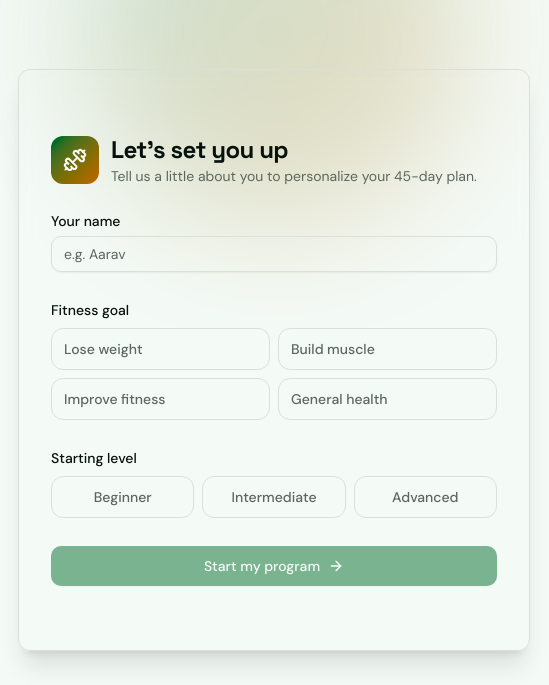
Test: OnboardingPage › disables submit until name, goal, and level are all chosen
The width and height of the screenshot is (549, 685).
Expected: the button "Start my program" is disabled, [51, 546, 497, 586]
Type "Aarav" into the field labelled "Your name" at [274, 254], box [51, 236, 497, 272]
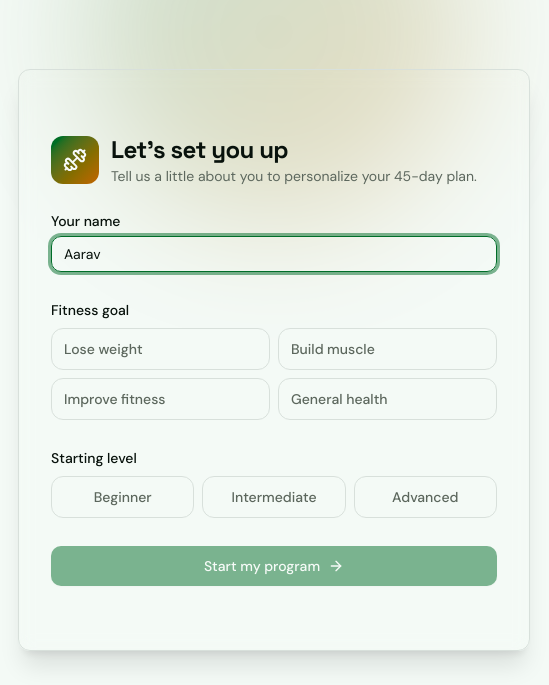
Expected: the button "Start my program" is disabled, [51, 546, 497, 586]
Click the button "Lose weight" at [160, 349], box [51, 328, 270, 370]
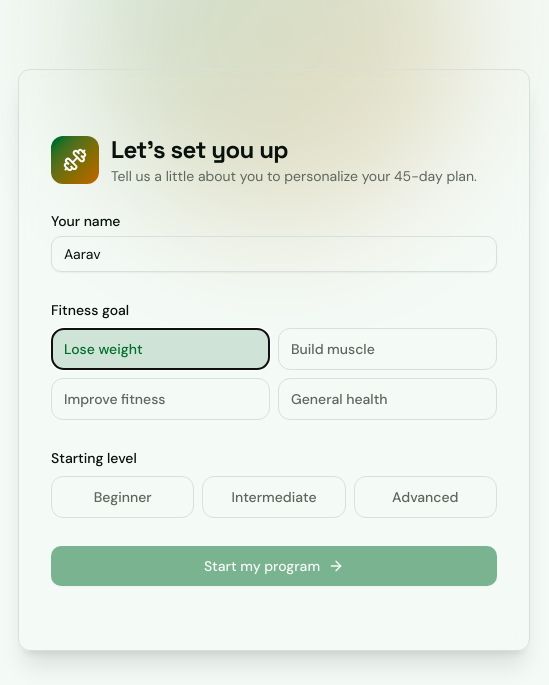
Expected: the button "Start my program" is disabled, [51, 546, 497, 586]
Click the button "Beginner" at [123, 497], box [51, 476, 194, 518]
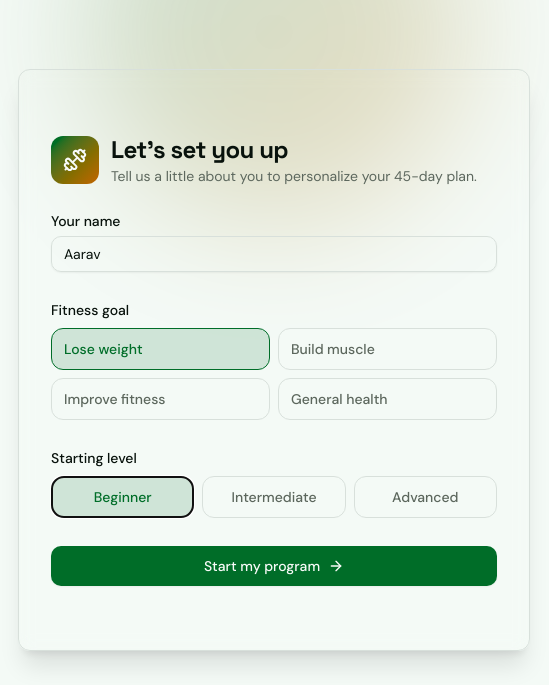
Result: the button "Start my program" is enabled at [51, 546, 497, 586]
